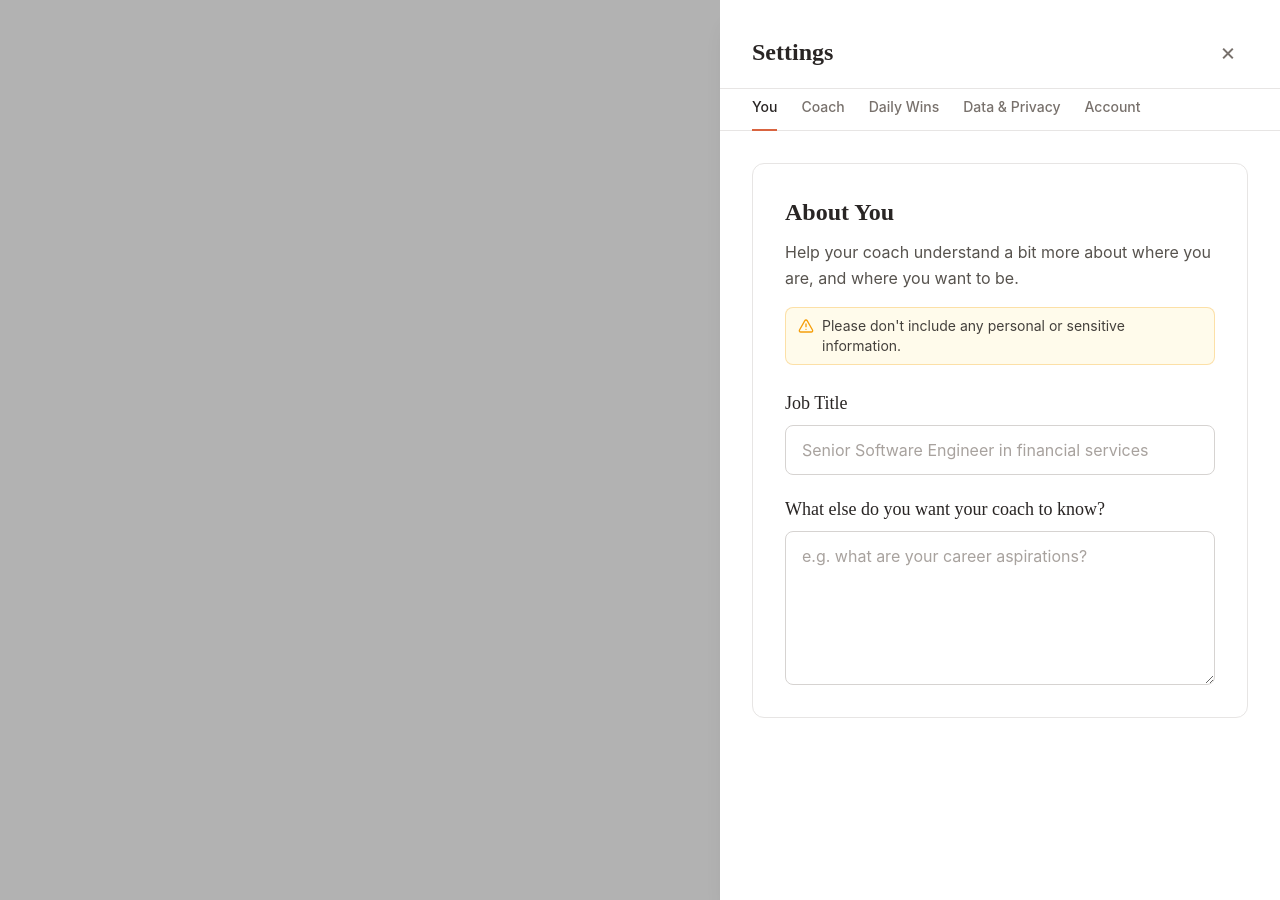
Test: SettingsDrawer — Delete account › requires typing email to enable Delete account button
Click the tab "Account": (1112, 110) [1084,89,1140,131]
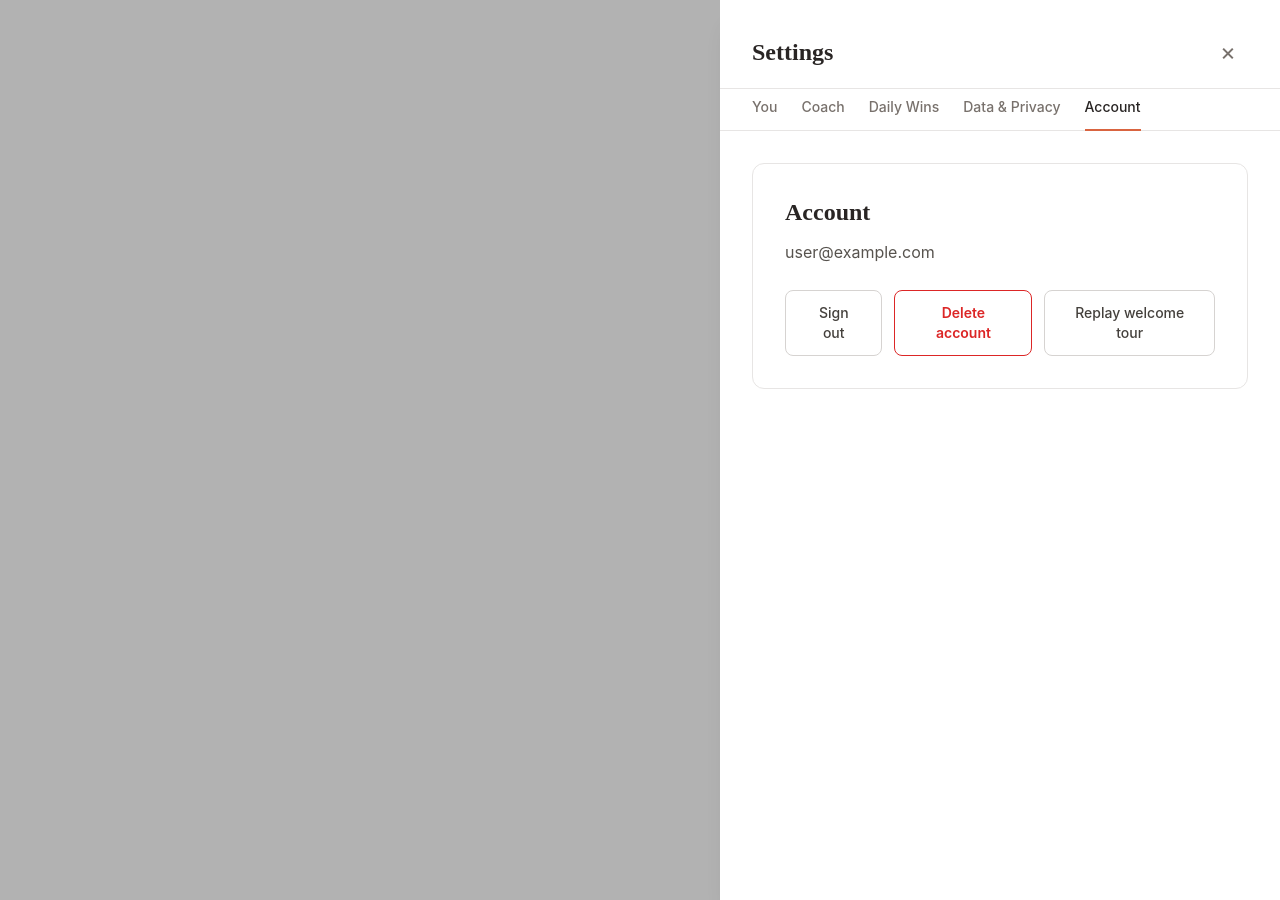
Result: the text "user@example.com" is shown at [785,242,935,262]
Click the button "Delete account": (963, 323) [894,290,1032,356]
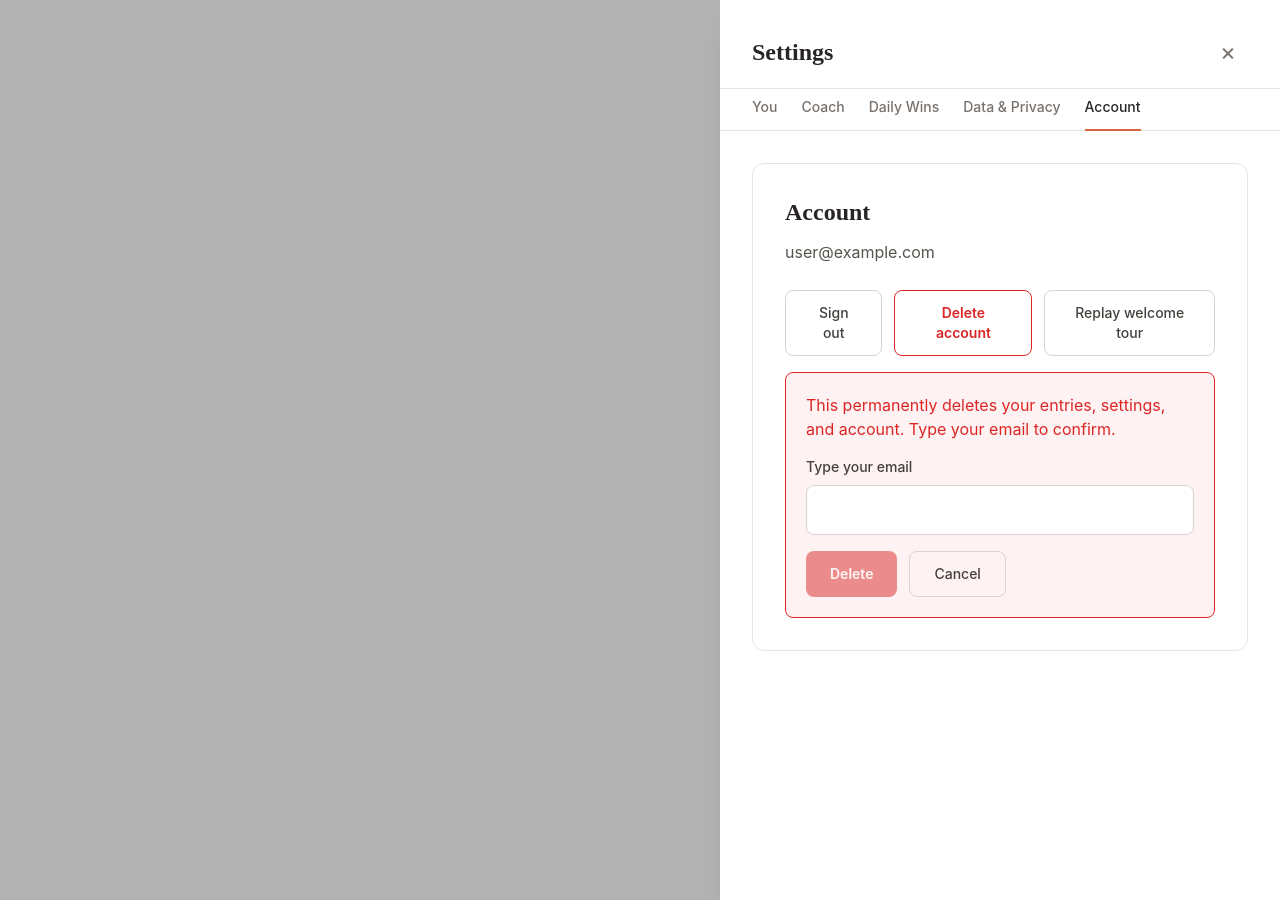
Result: the button "Delete" is disabled at [806,551,897,597]
In the field labelled "Type your email": (1000, 510) [806,485,1194,535], type "user@example.com"
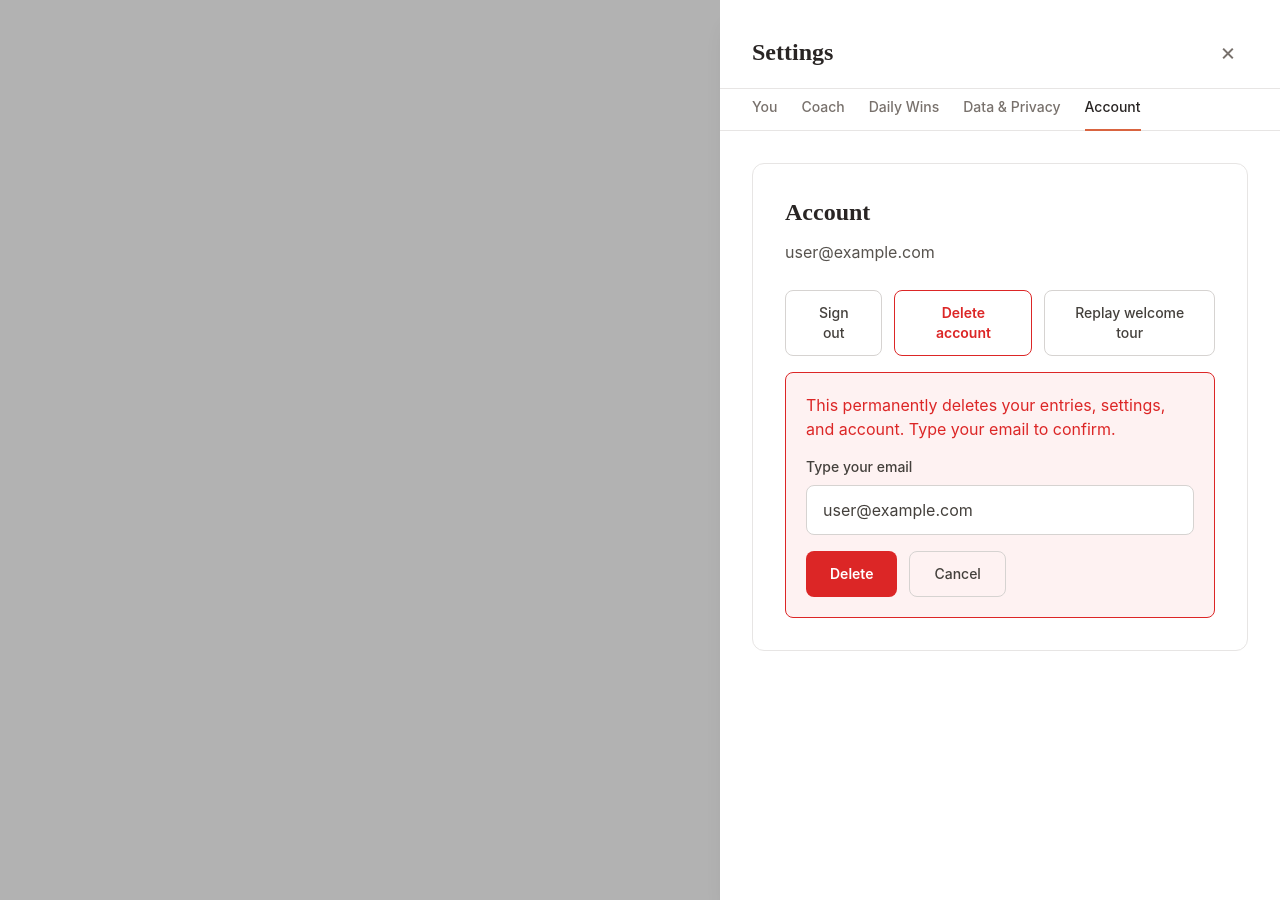
Result: the button "Delete" is enabled at [806,551,897,597]
